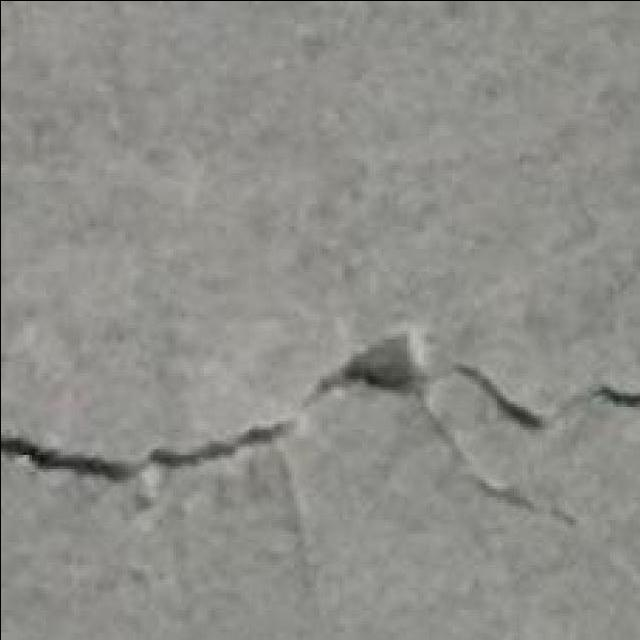Crack: (2, 325, 636, 535)
